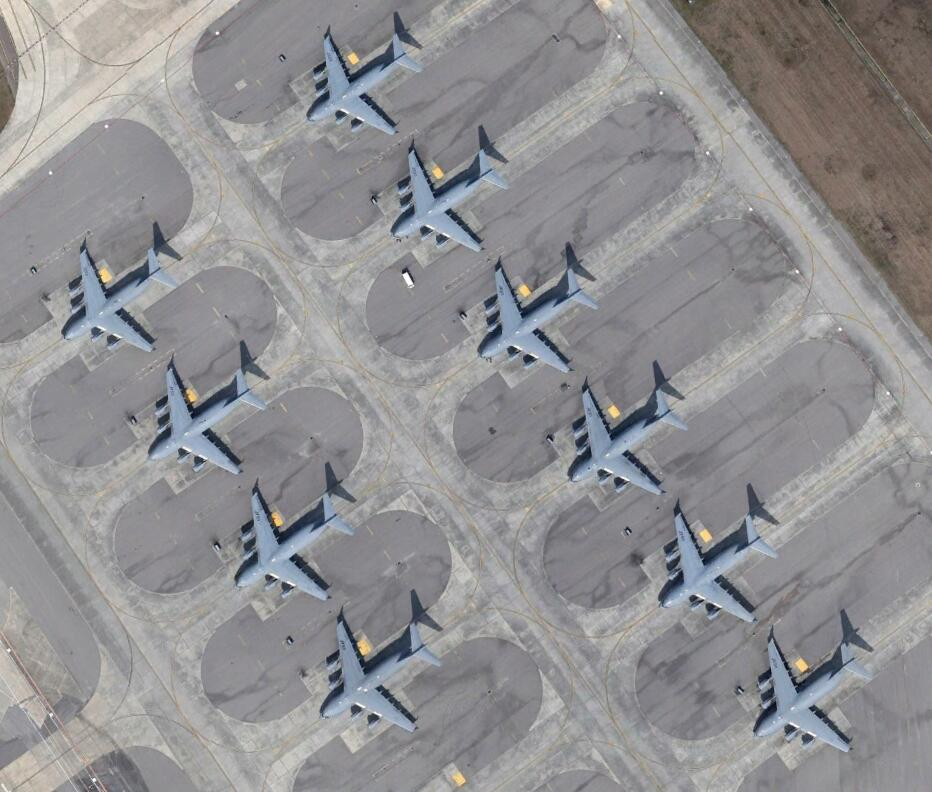A3: (232, 490, 357, 605), (753, 639, 872, 756), (657, 510, 780, 623), (143, 366, 271, 474), (318, 619, 441, 731), (476, 265, 600, 375), (568, 387, 689, 495), (392, 147, 512, 255), (59, 248, 179, 352), (306, 35, 425, 137)
